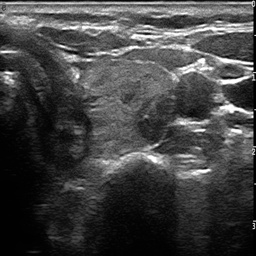mass: (139, 87, 177, 142)
